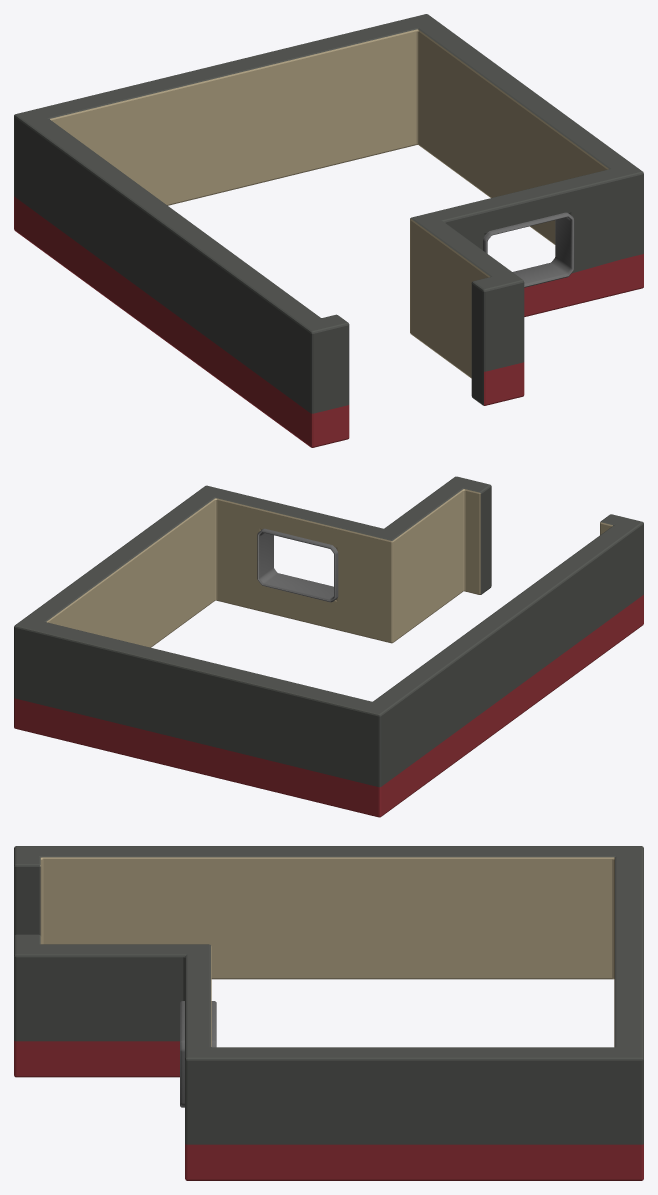
File: comms_walls.fbx
The picture shows the model from 3 angles, top to bottom: view 1: azimuth 30°, elevation 25°; view 2: azimuth 150°, elevation 25°; view 3: azimuth 270°, elevation 25°; orthographic projection. The views are drawn at different scales.
Parts seen in each view (by area): view 1: Communications; view 2: Communications; view 3: Communications.
Part boxes in pixels (x1,y1,x2,y2): Communications: (14,14,643,447); Communications: (14,476,643,817); Communications: (14,846,643,1180).
Size of the model in its own units: 1114 by 300 by 1390.
